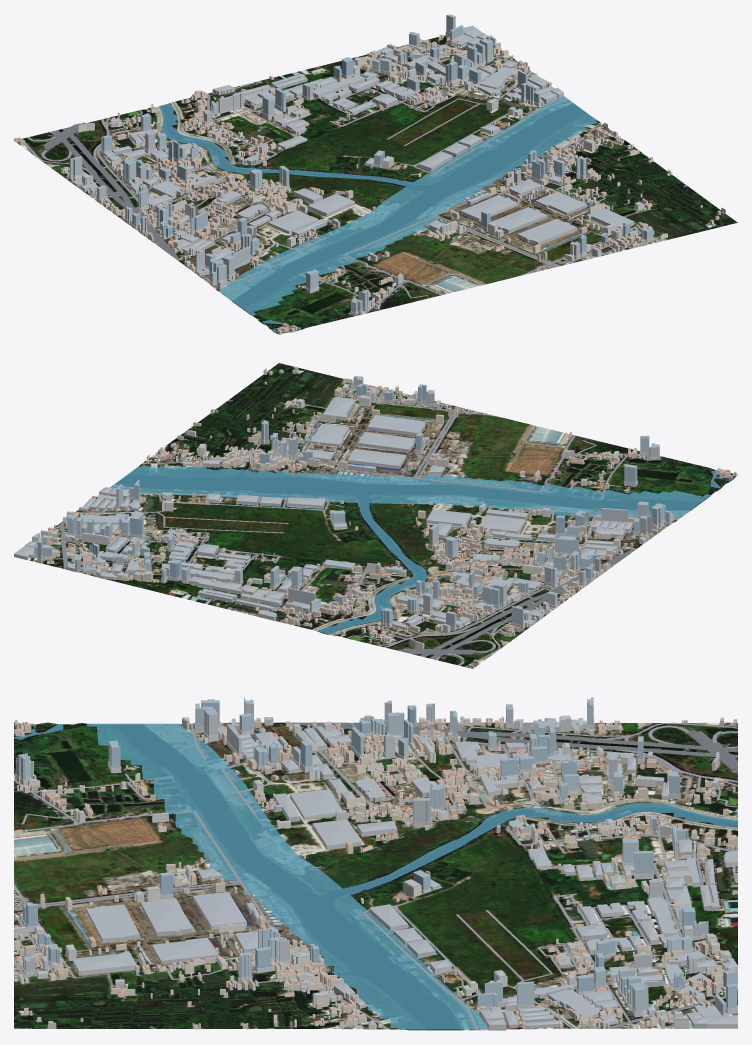
3 renders of one model, top to bottom at view 1: azimuth 30°, elevation 25°; view 2: azimuth 150°, elevation 25°; view 3: azimuth 270°, elevation 25°, orthographic. The views are drawn at different scales.
Visible parts, largest first — view 1: TERRAIN, BLDG_INDUSTRIAL_PORT, WATER, BLDG_MODERN_TOWER, BLDG_SHOPHOUSE_VILLA, ROAD_METRO, BLDG_TUBE_HOUSE, BLDG_APARTMENT; view 2: TERRAIN, BLDG_INDUSTRIAL_PORT, WATER, BLDG_MODERN_TOWER, BLDG_SHOPHOUSE_VILLA, ROAD_METRO, BLDG_APARTMENT, BLDG_TUBE_HOUSE; view 3: TERRAIN, WATER, BLDG_INDUSTRIAL_PORT, BLDG_MODERN_TOWER, BLDG_SHOPHOUSE_VILLA, ROAD_METRO, BLDG_APARTMENT, BLDG_TUBE_HOUSE.
Boxes of the visible parts, box(x1,y1,x2,y2) form: TERRAIN: box(15, 35, 737, 334); BLDG_INDUSTRIAL_PORT: box(72, 25, 634, 276); WATER: box(159, 96, 597, 333); BLDG_MODERN_TOWER: box(69, 14, 653, 315); BLDG_SHOPHOUSE_VILLA: box(14, 34, 725, 332); ROAD_METRO: box(21, 42, 661, 333); BLDG_TUBE_HOUSE: box(18, 32, 720, 334); BLDG_APARTMENT: box(73, 35, 654, 306); TERRAIN: box(27, 363, 737, 668); BLDG_INDUSTRIAL_PORT: box(14, 396, 658, 629); WATER: box(110, 465, 735, 634); BLDG_MODERN_TOWER: box(33, 376, 671, 630); BLDG_SHOPHOUSE_VILLA: box(43, 366, 730, 668); ROAD_METRO: box(60, 383, 733, 666); BLDG_APARTMENT: box(32, 384, 673, 648); BLDG_TUBE_HOUSE: box(32, 368, 736, 667); TERRAIN: box(14, 722, 737, 1030); WATER: box(14, 723, 737, 1029); BLDG_INDUSTRIAL_PORT: box(72, 718, 737, 1030); BLDG_MODERN_TOWER: box(15, 697, 737, 1017); BLDG_SHOPHOUSE_VILLA: box(14, 716, 737, 1029); ROAD_METRO: box(14, 722, 737, 1029); BLDG_APARTMENT: box(14, 715, 737, 1028); BLDG_TUBE_HOUSE: box(14, 718, 737, 1029).
Bounding box in the file's own units: 2000 × 89.87 × 2000.
Materials: 8 (1 with a texture image).
